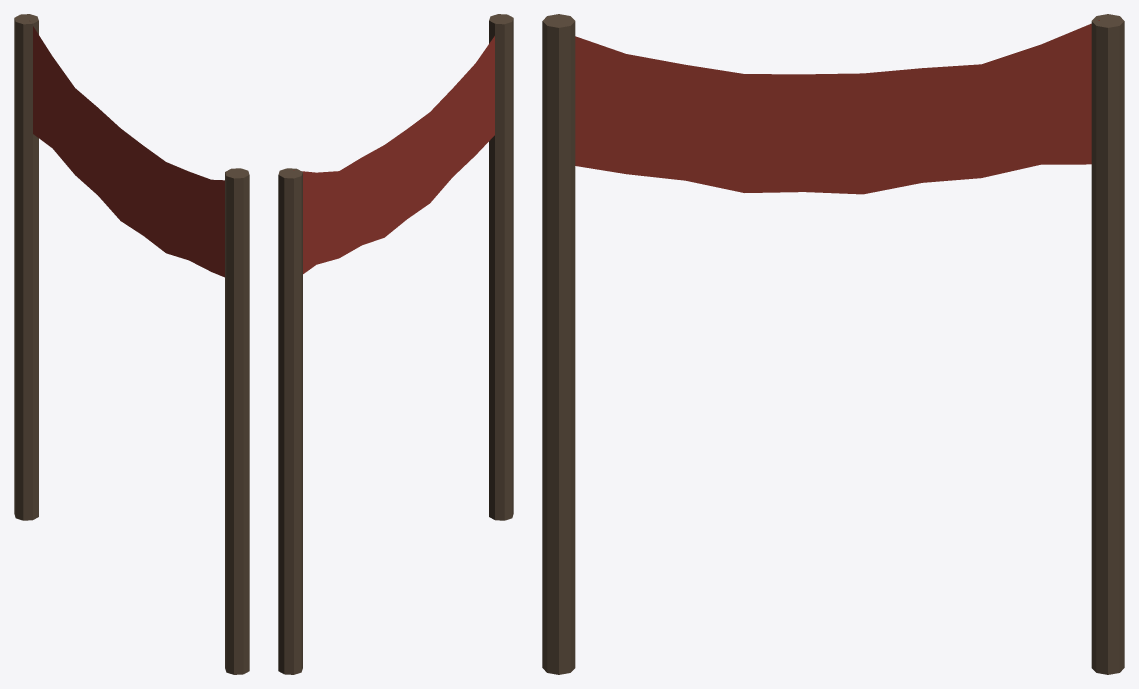
Rendered from banner.fbx.
3 renders of one model, left to right at view 1: azimuth 30°, elevation 25°; view 2: azimuth 150°, elevation 25°; view 3: azimuth 270°, elevation 25°, orthographic. The views are drawn at different scales.
Visible parts, largest first — view 1: banner; view 2: banner; view 3: banner.
Boxes of the visible parts, x1=… form: banner: x1=14, y1=14, x2=249, y2=674; banner: x1=278, y1=14, x2=513, y2=674; banner: x1=542, y1=14, x2=1124, y2=674.
Size of the model in its own units: 6 by 130 by 106.
